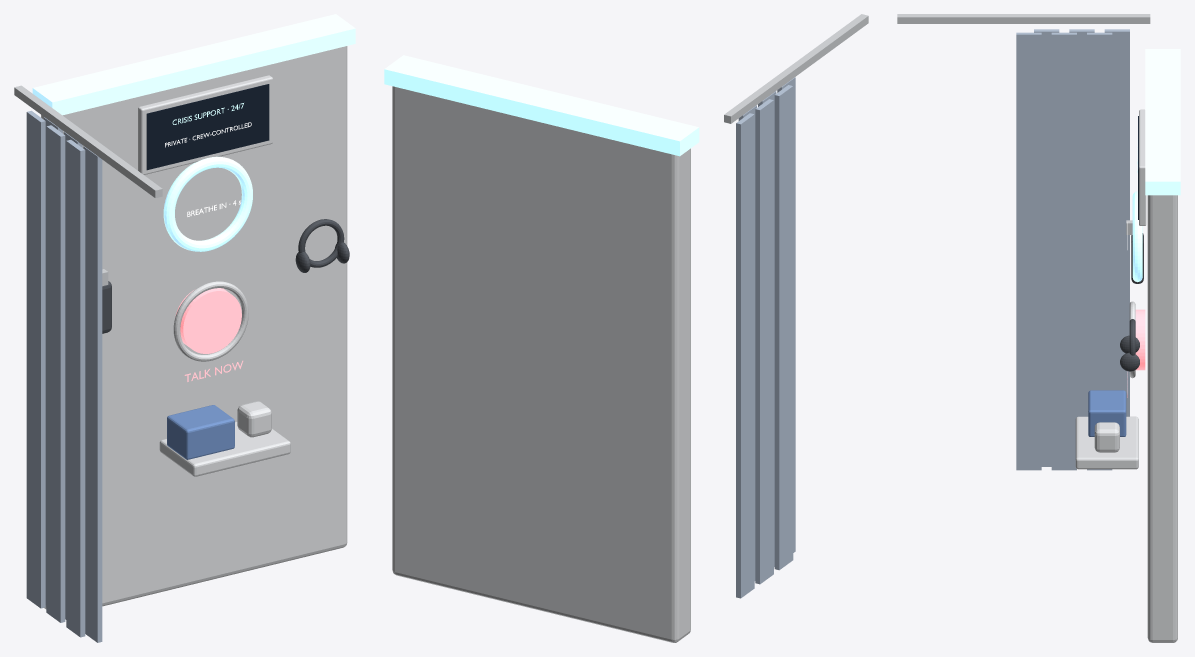
The model's file is emergency_mh_station.glb.
3 views of the same model, side by side, from view 1: azimuth 30°, elevation 25°; view 2: azimuth 150°, elevation 25°; view 3: azimuth 270°, elevation 25° (orthographic). The views are drawn at different scales.
Visible parts, largest first — view 1: Button_Ring, Cube.010 (×6), Breathing_Guide, Button_Label; view 2: Button_Ring, Cube.010 (×5), Breathing_Guide; view 3: Cube.010 (×6), Button_Ring, Breathing_Guide, Button_Label.
Boxes of the visible parts, <box> form: Button_Ring: <box>14,46,349,609</box>; Cube.010 (×6): <box>26,110,102,642</box>; Breathing_Guide: <box>32,14,355,251</box>; Button_Label: <box>175,288,243,381</box>; Button_Ring: <box>392,14,868,642</box>; Cube.010 (×5): <box>736,77,795,598</box>; Breathing_Guide: <box>384,55,699,156</box>; Cube.010 (×6): <box>1016,29,1129,470</box>; Button_Ring: <box>897,14,1177,642</box>; Breathing_Guide: <box>1132,49,1180,282</box>; Button_Label: <box>1127,309,1145,397</box>.
Bounding box in the file's own units: 1.38 × 2.11 × 1.12.
5 materials, 5 textured.
